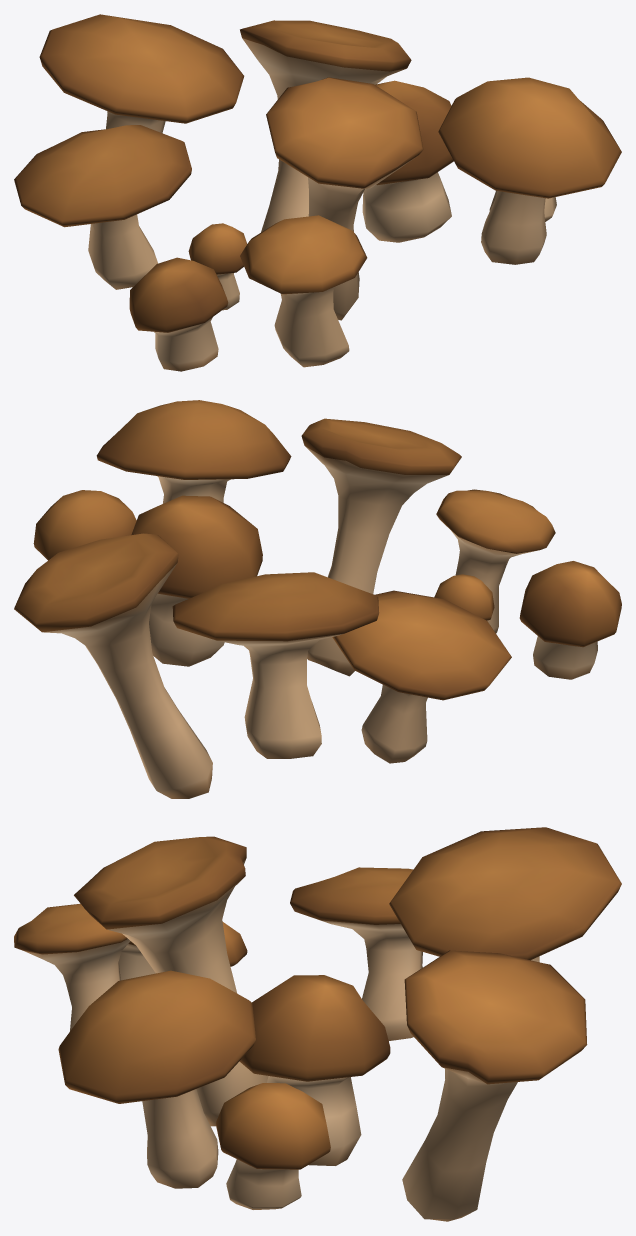
The model's file is SM_Plant_PorciniMushroom_Lv2.fbx.
3 renders of one model, top to bottom at view 1: azimuth 30°, elevation 25°; view 2: azimuth 150°, elevation 25°; view 3: azimuth 270°, elevation 25°, orthographic. The views are drawn at different scales.
Visible parts, largest first — view 1: SM_Plant_PorciniMushroom_Lv2; view 2: SM_Plant_PorciniMushroom_Lv2; view 3: SM_Plant_PorciniMushroom_Lv2.
Boxes of the visible parts, left/top/right/bottom form: SM_Plant_PorciniMushroom_Lv2: left=14, top=14, right=621, bottom=371; SM_Plant_PorciniMushroom_Lv2: left=14, top=400, right=621, bottom=798; SM_Plant_PorciniMushroom_Lv2: left=14, top=827, right=621, bottom=1221.
Bounding box in the file's own units: 66.57 × 37.18 × 62.01.
